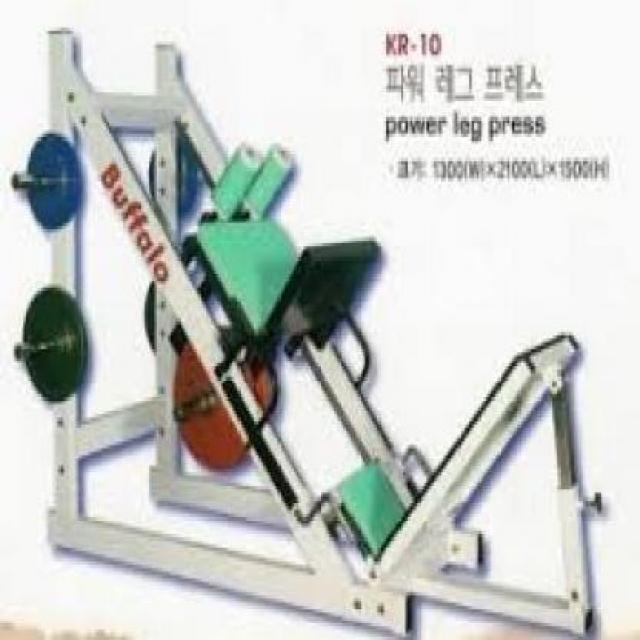leg press: (0, 9, 623, 640)
